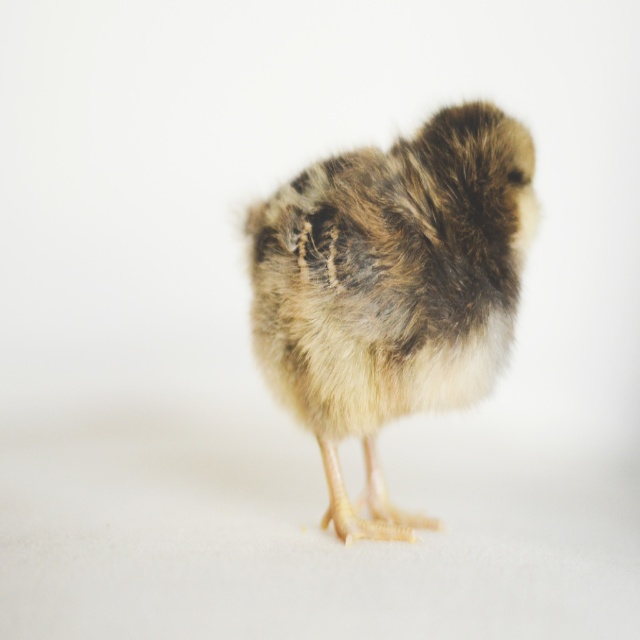Chicken: (262, 86, 530, 578)
